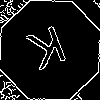K: (25, 25, 73, 79)
